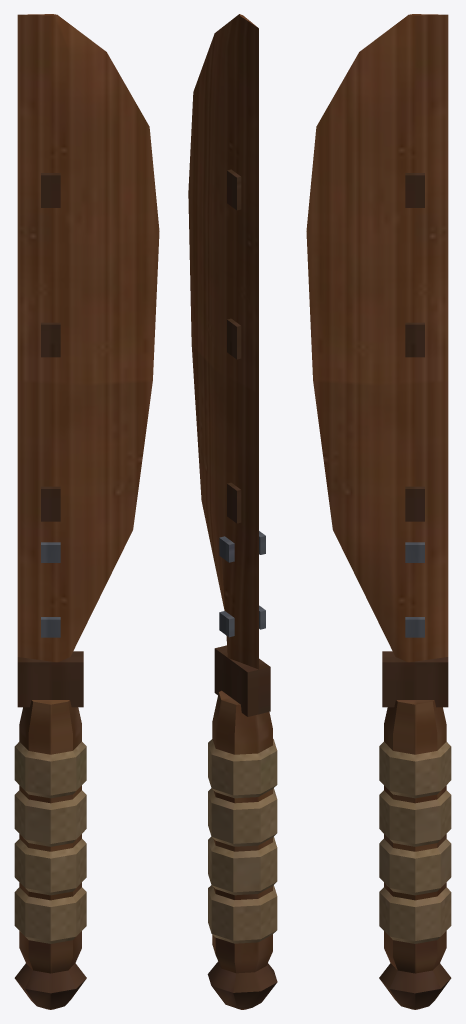
File: goblin_rusty_cleaver.glb
The picture shows the model from 3 angles, left to right: view 1: azimuth 90°, elevation 25°; view 2: azimuth 210°, elevation 25°; view 3: azimuth 270°, elevation 25°; orthographic projection.
Visible parts, largest first — view 1: goblin_rusty_cleaver; view 2: goblin_rusty_cleaver; view 3: goblin_rusty_cleaver.
Boxes of the visible parts, bbox=[...] form: goblin_rusty_cleaver: bbox=[14, 14, 159, 1009]; goblin_rusty_cleaver: bbox=[188, 14, 277, 1009]; goblin_rusty_cleaver: bbox=[306, 14, 451, 1009].
Size of the model in its own units: 0.044 by 0.665 by 0.088.
Materials: 5 (5 with a texture image).
